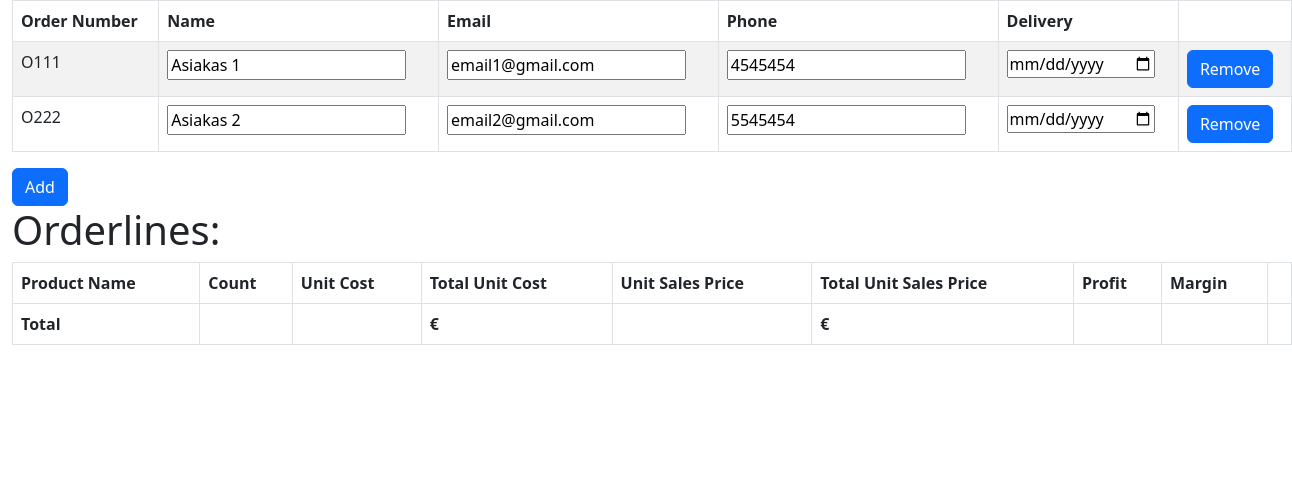
it: OrderAPI › should render grid with all products
The width and height of the screenshot is (1292, 494).
Expected: the number of rows with test id "order-row" is 2, [12, 42, 1291, 96]; [12, 96, 1291, 152]
Expected: the text "O111" is shown, [12, 42, 159, 96]
Click the button with test id "orderAddNew": point(40, 187) [12, 168, 68, 206]
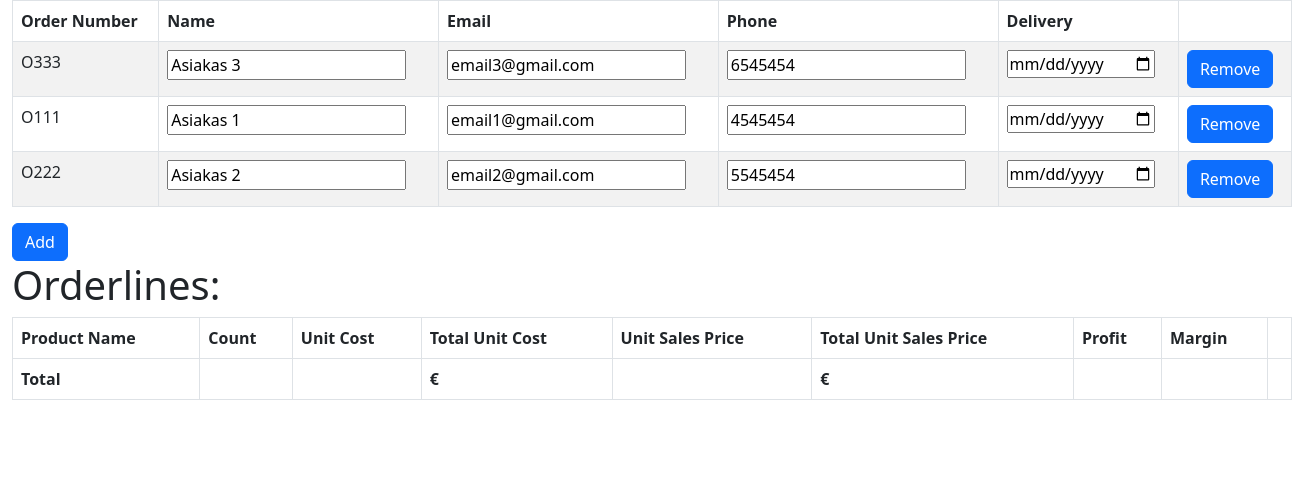
Expected: the number of rows with test id "order-row" is 3, [12, 42, 1291, 96]; [12, 96, 1291, 152]; [12, 152, 1291, 206]
Expected: the text "O333" is shown, [12, 42, 159, 96]
Click the button with test id "order-delete-1": point(1230, 124) [1187, 105, 1273, 143]
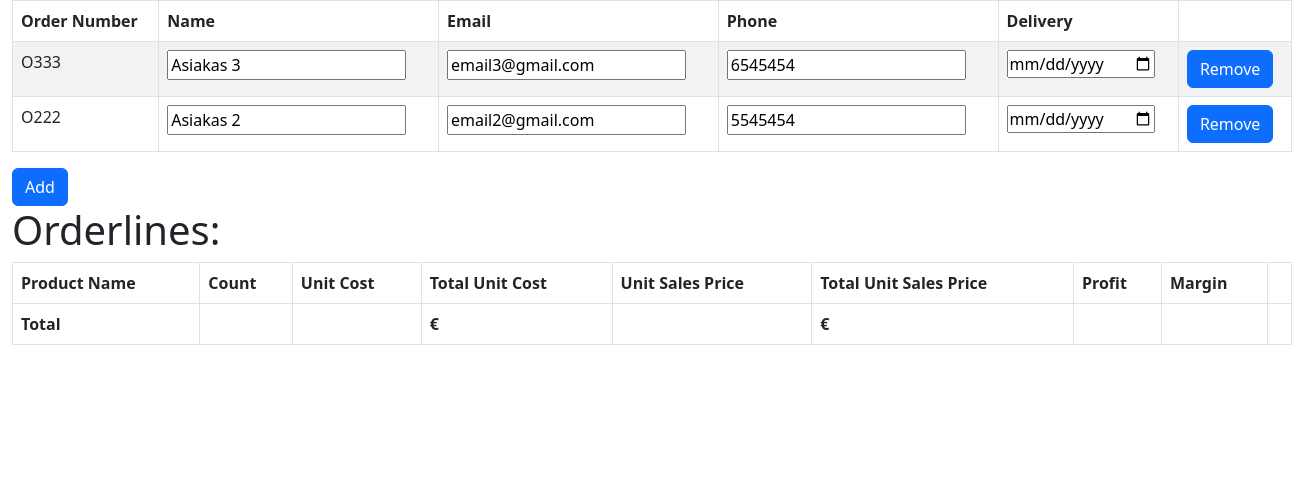
Expected: the text "O333" is shown, [12, 42, 159, 96]
Expected: the number of rows with test id "order-row" is 2, [12, 42, 1291, 96]; [12, 96, 1291, 152]
Click the text "O222": point(86, 124) [12, 96, 159, 152]
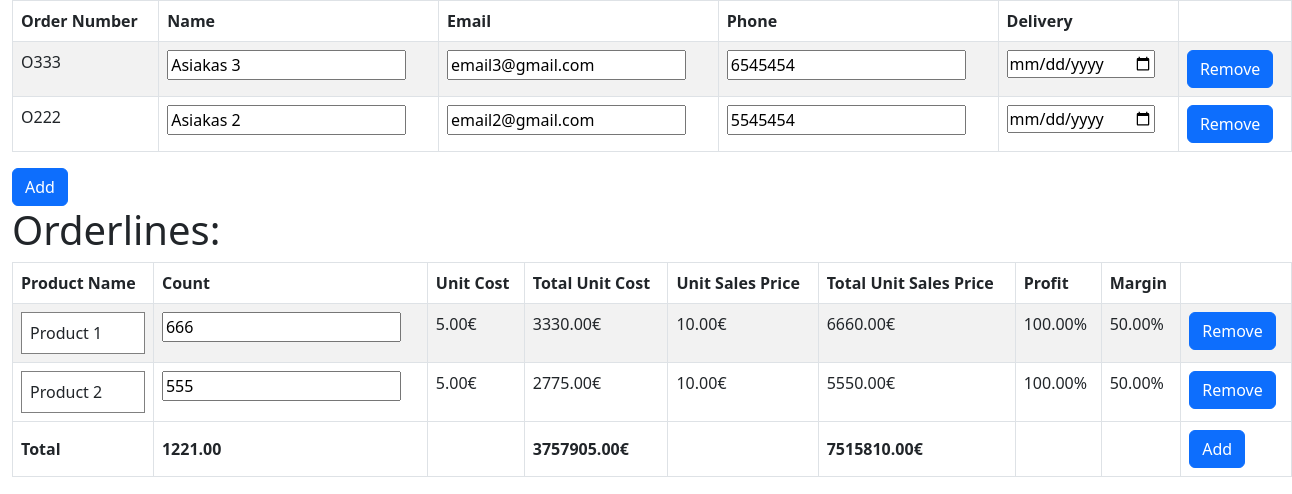
Expected: the number of rows with test id "orderline-row" is 2, [12, 304, 1291, 362]; [12, 362, 1291, 422]
Expected: the text "Product 1" is shown, [21, 312, 145, 354]
Expected: the text "Product 2" is shown, [21, 371, 145, 413]
